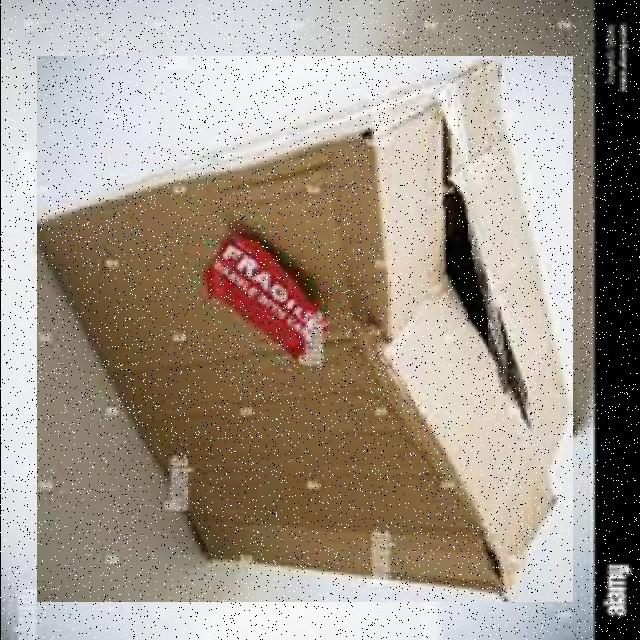defect: (36, 56, 572, 602)
